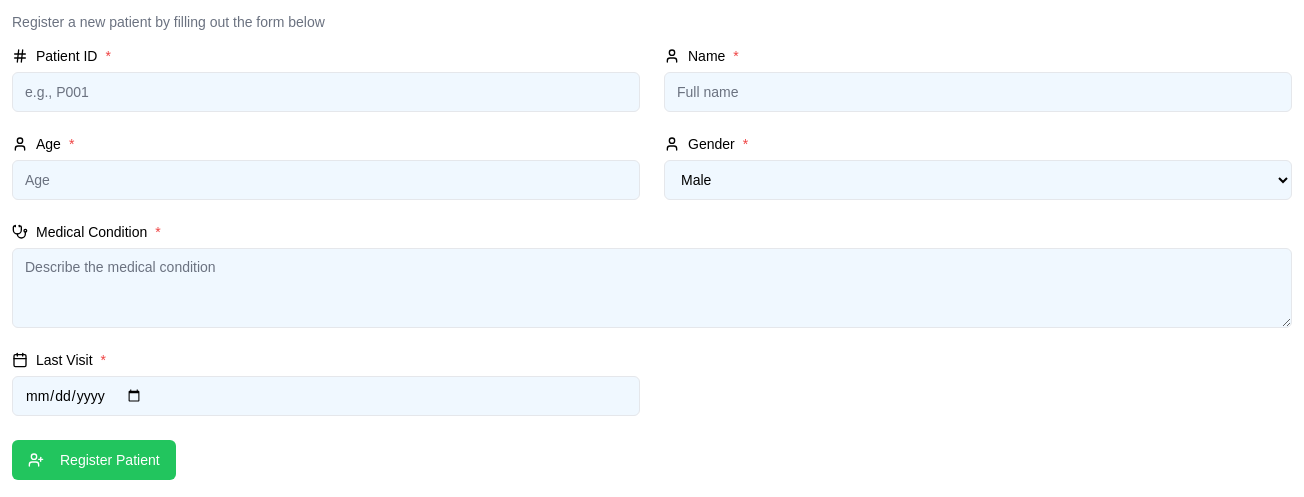
Scenario: PatientRegistrationForm Loading States › should show loading state during form submission
The image size is (1304, 497).
// Fill form
Type "P001" into the field labelled "Patient ID *" at (326, 92), box [12,72,640,112]
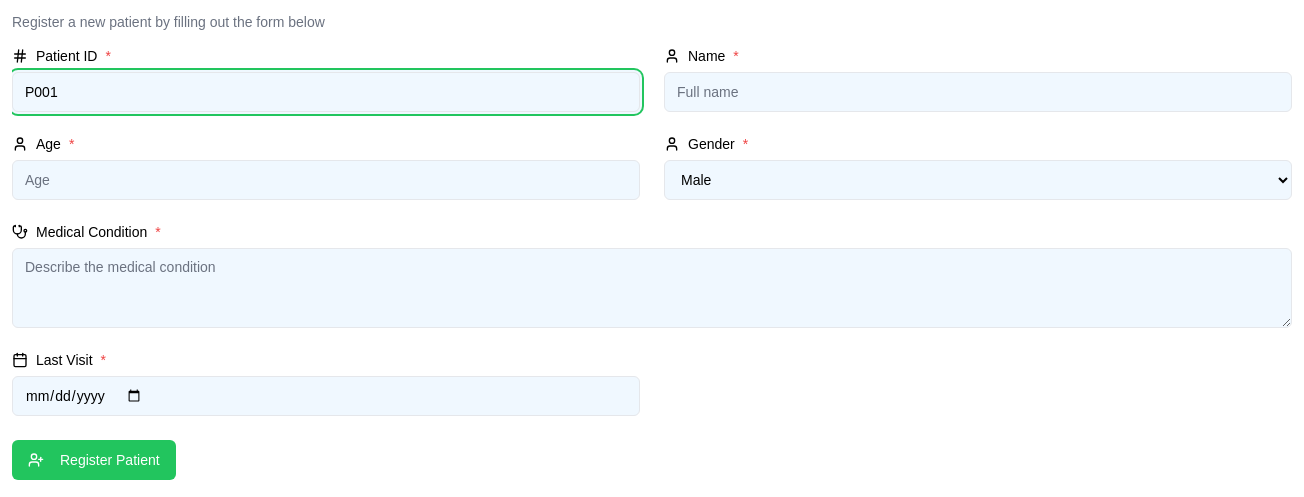
Type "John Doe" into the field labelled "Name *" at (978, 92), box [664,72,1292,112]
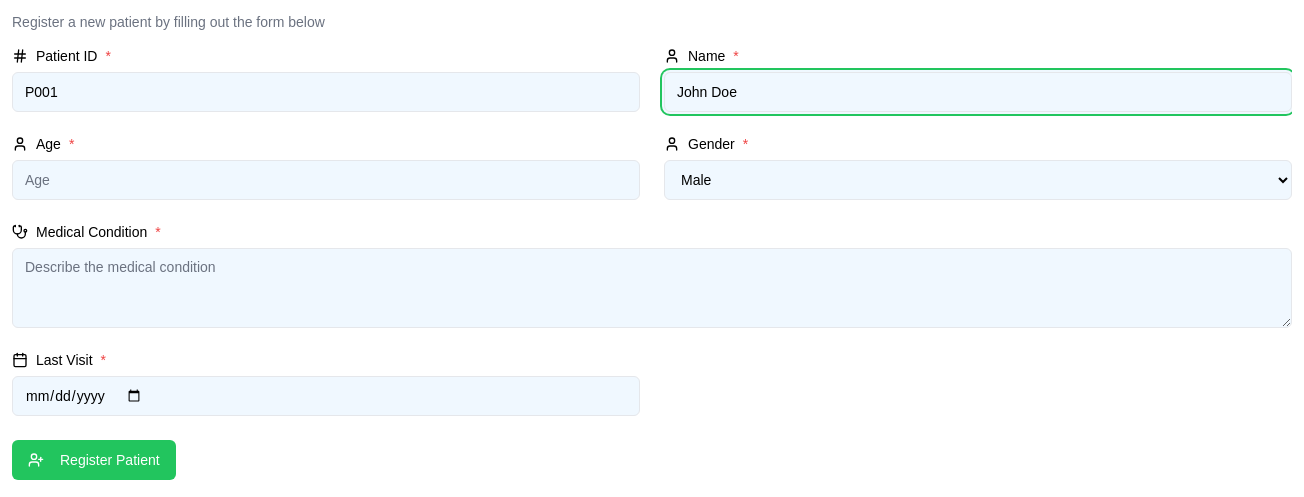
Type "30" into the number field labelled "Age *" at (326, 180), box [12,160,640,200]
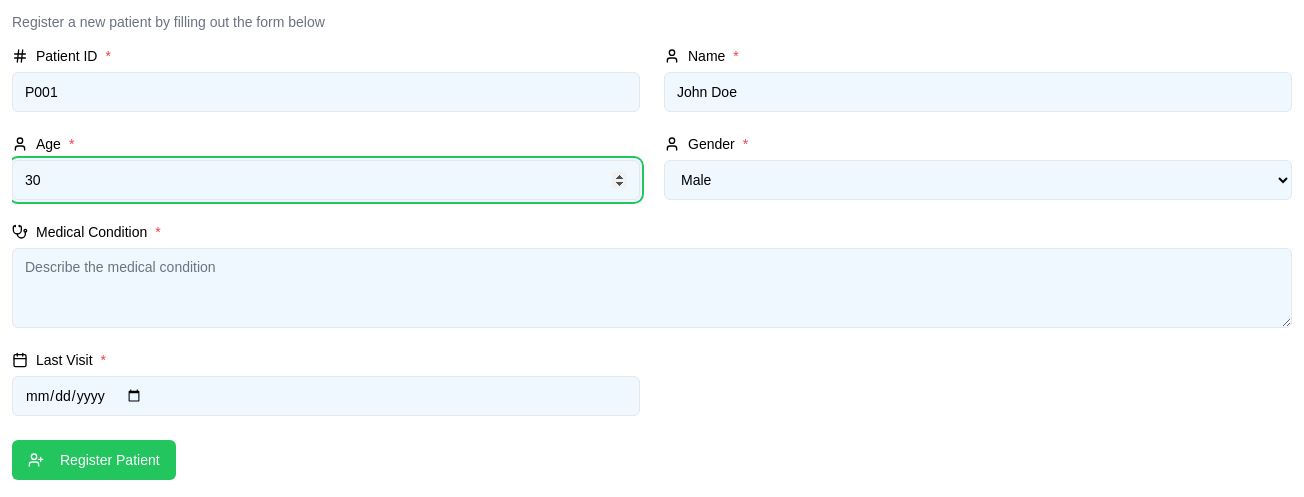
Type "Fever" into the text box labelled "Medical Condition *" at (652, 288), box [12,248,1292,328]
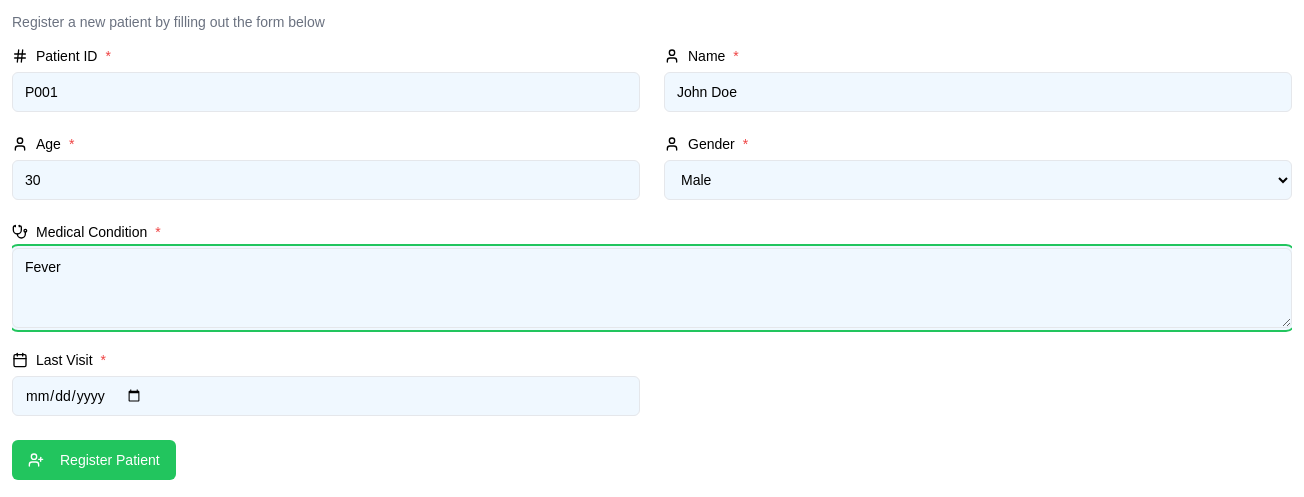
Type "2024-01-01" into the date field labelled "Last Visit *" at (326, 396), box [12,376,640,416]
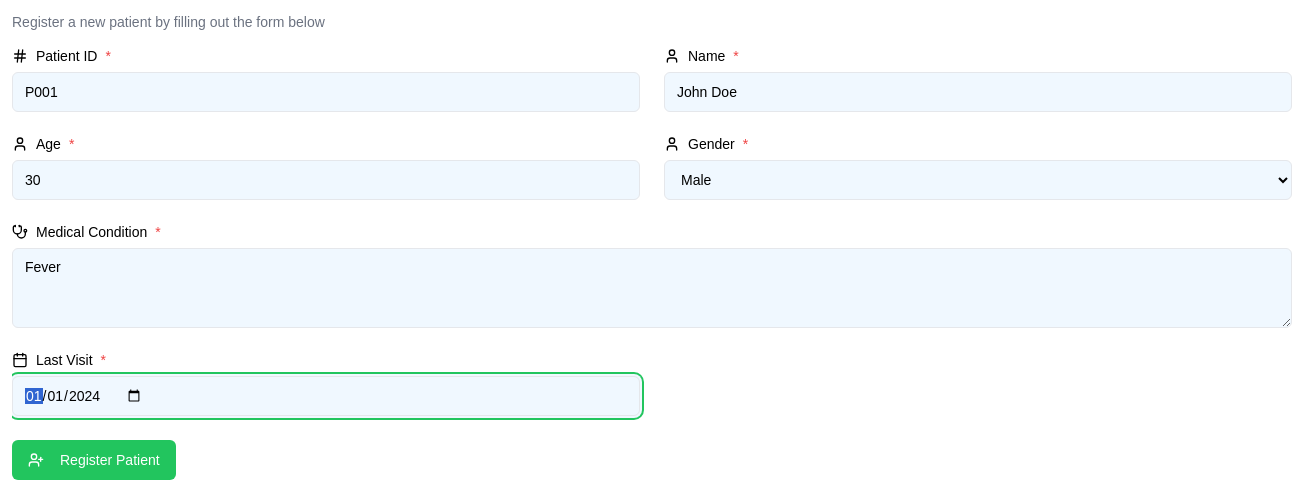
// Submit form
Click the button "Register Patient" at (94, 460), box [12,440,176,480]
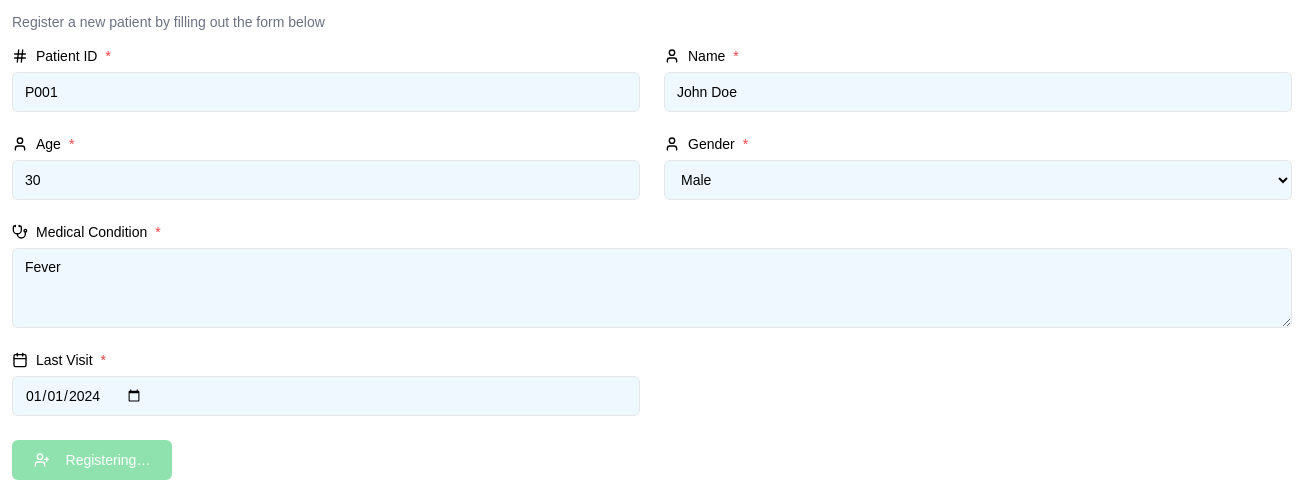
Check: the button named "register patient" is disabled, box [12,440,172,480]
